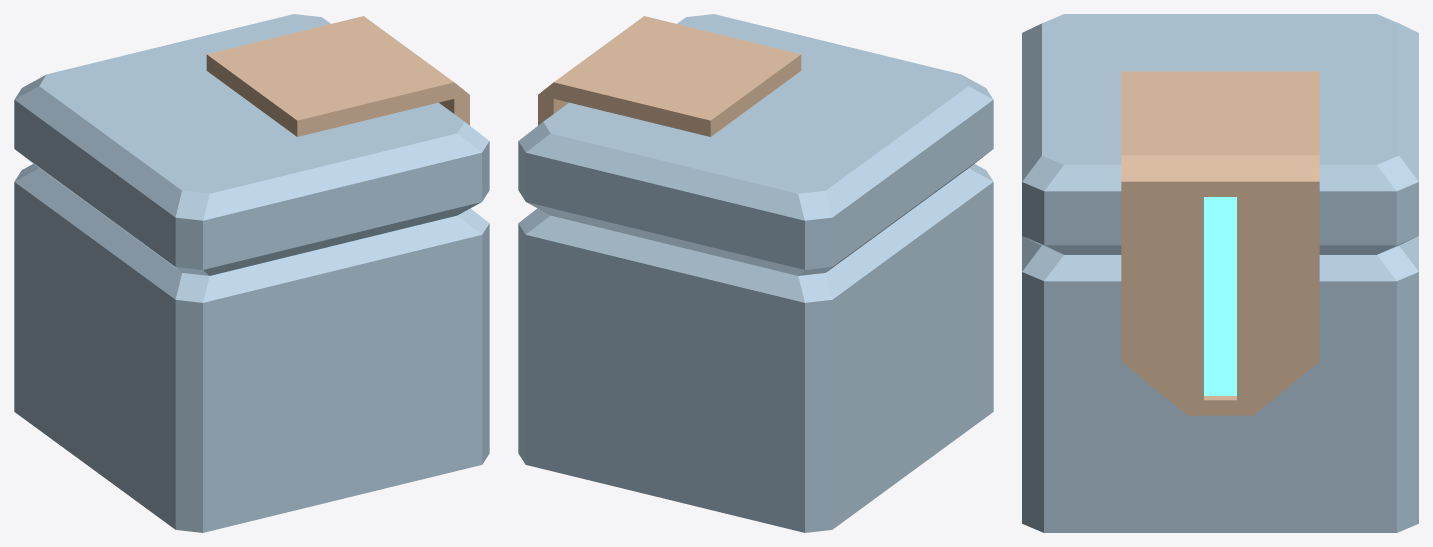
Rendered from Crate_Small.fbx.
The picture shows the model from 3 angles, left to right: view 1: azimuth 30°, elevation 25°; view 2: azimuth 150°, elevation 25°; view 3: azimuth 270°, elevation 25°; orthographic projection. The views are drawn at different scales.
Visible parts, largest first — view 1: Block_2; view 2: Block_2; view 3: Block_2.
Part boxes in pixels (x1,y1,x2,y2): Block_2: (14, 14, 489, 532); Block_2: (518, 14, 993, 532); Block_2: (1022, 14, 1418, 532).
Size of the model in its own units: 2.1 by 2.1 by 2.
